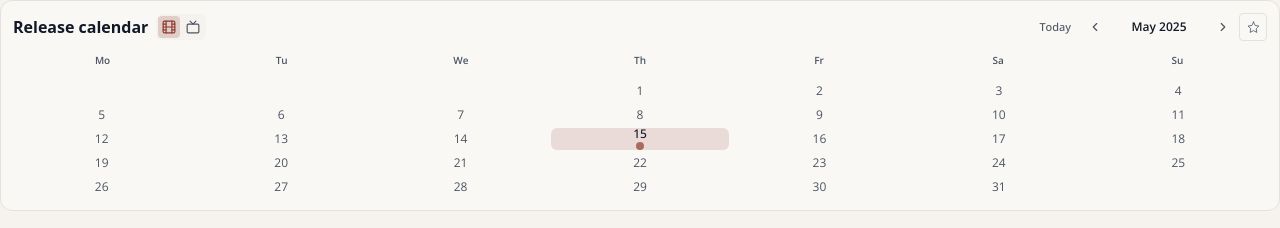
ReleaseCalendar › day selection › shows "no overview" message when overview is null
Click the button named "May 15, 2025". click: (640, 139)
box: x1=551 y1=128 x2=729 y2=150
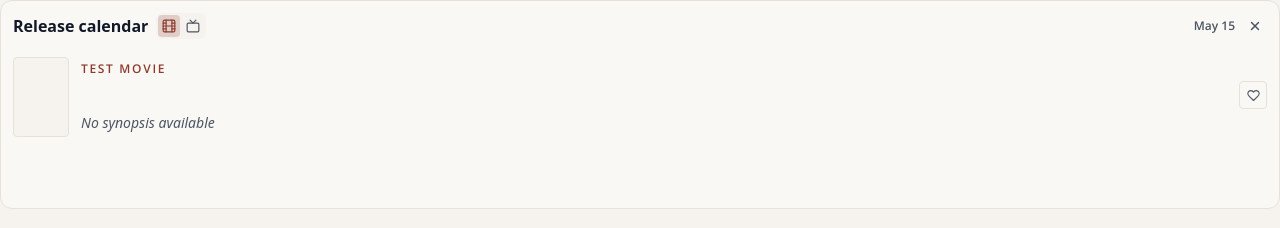
Check: the text "No synopsis available" is shown, box x1=81 y1=113 x2=215 y2=132
